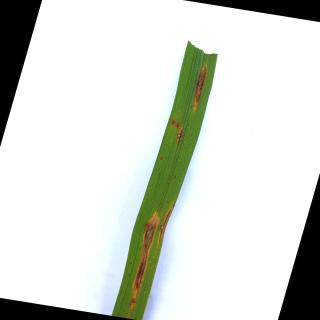Blast: (132, 212, 161, 291), (191, 65, 208, 111), (158, 210, 172, 241), (174, 128, 183, 144), (130, 295, 137, 307), (171, 119, 176, 125), (176, 122, 180, 129)
